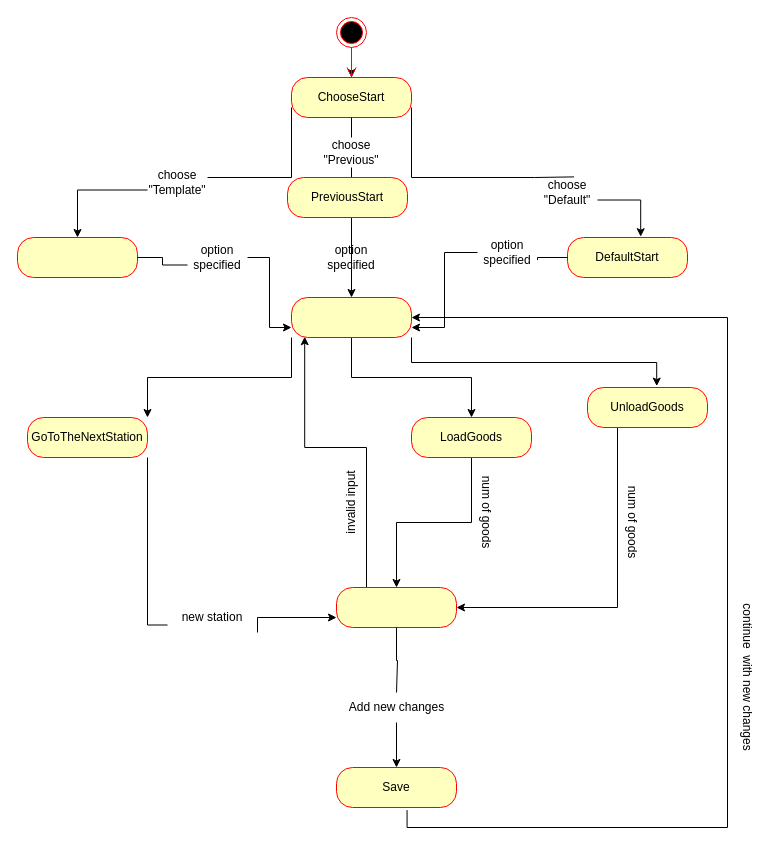
This 780x853 diagram has some shape labels left out. Each missing label, with the centre of its shape:
CheckValidation: (x=396, y=607)
ChooseMove: (x=351, y=317)
TemplateStart: (x=77, y=257)
